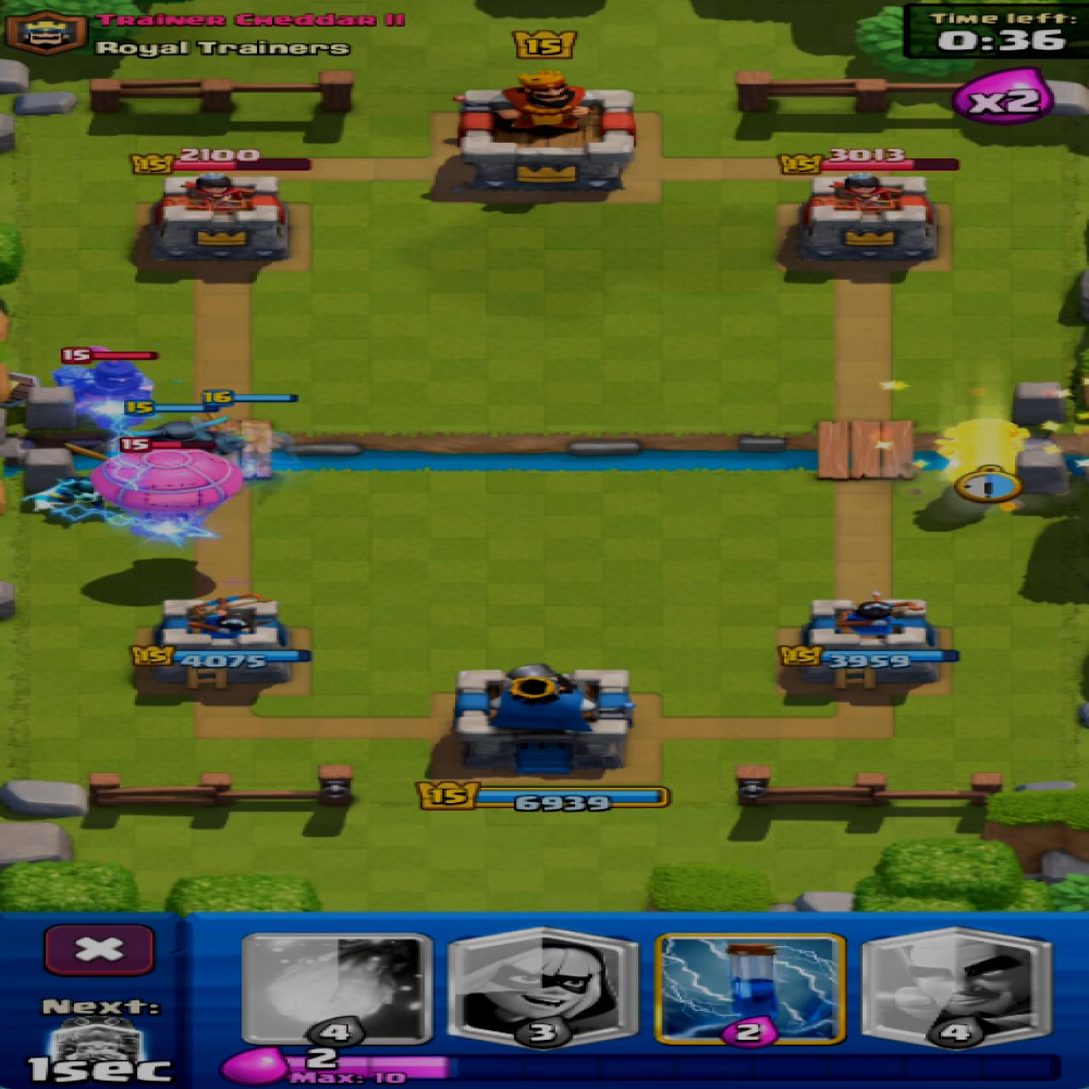Enemy-Balloon: (91, 447, 242, 544)
Enemy-DarkPrince: (54, 347, 150, 428)
Enemy-KingTower: (457, 71, 634, 194)
Enemy-PrincessTower: (791, 174, 937, 263), (150, 173, 287, 261)
